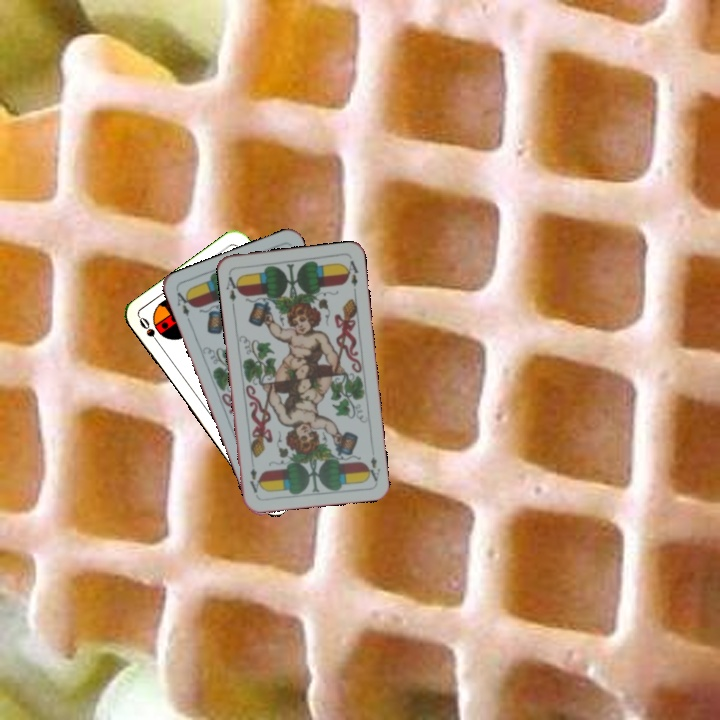EA: (173, 288, 194, 326), (222, 272, 243, 304), (363, 453, 383, 484)
SO: (135, 313, 164, 349)
